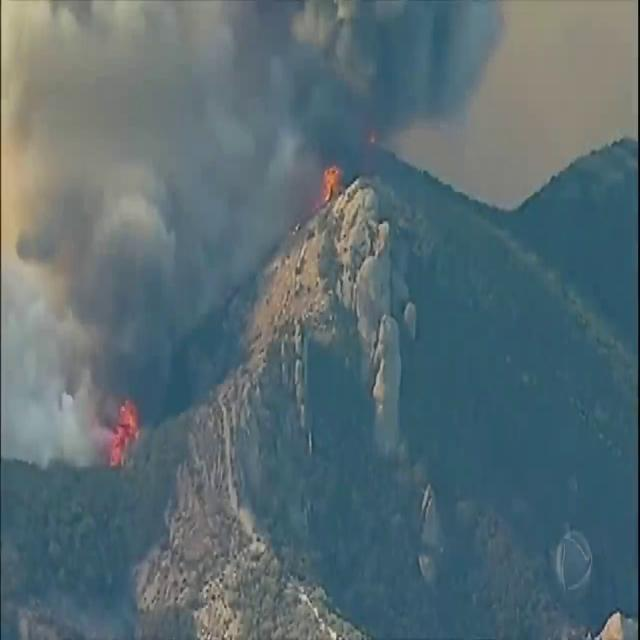Fire: (102, 401, 144, 465), (323, 164, 340, 200)
Smoke: (1, 260, 95, 468)
